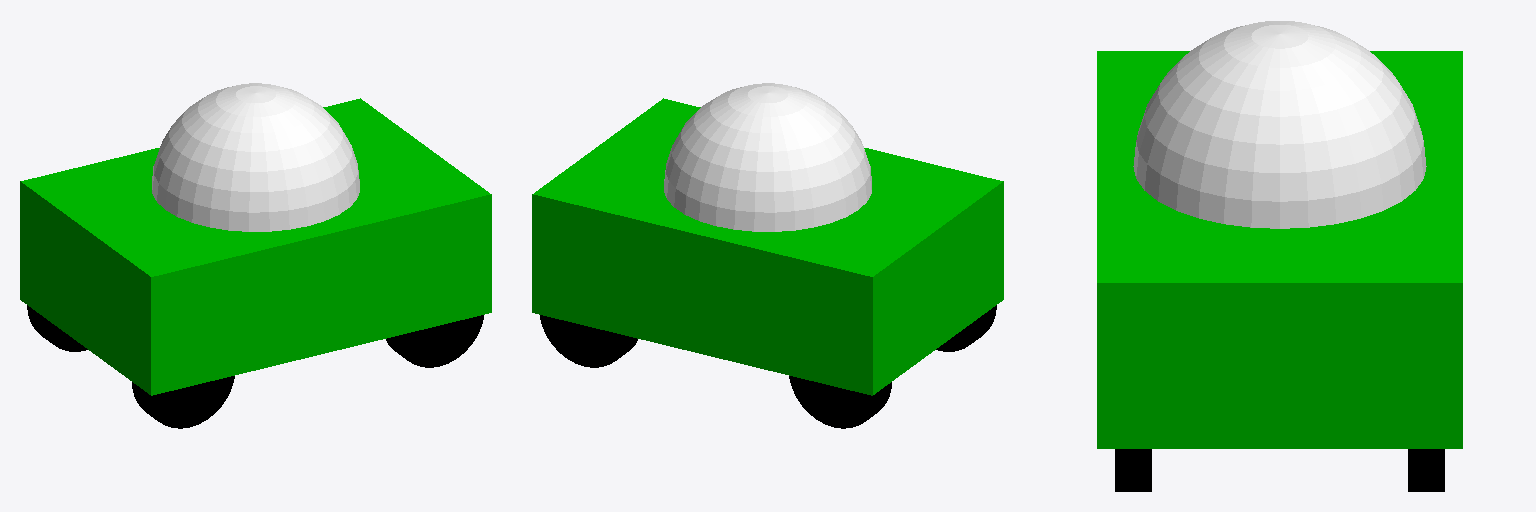
robot.urdf — first_robot:
<?xml version="1.0" encoding="utf-8"?>
<!-- =================================================================================== -->
<!-- |    This document was autogenerated by xacro from xacro/first_robot.xacro        | -->
<!-- |    EDITING THIS FILE BY HAND IS NOT RECOMMENDED                                 | -->
<!-- =================================================================================== -->
<robot name="first_robot">
  <!--A URDF (Unified Robotic Description Format) file must include the first xml version and start with a robot name.
If you are using xacro (xml+micro) to reduce the script length then, it must include the xml name space "xacro"
represented by "xmlns:xacro". http://wiki.ros.org/urdf-->
  <!--Pre-defining material properties-->
  <material name="green">
    <color rgba="0 0.8 0 1"/>
  </material>
  <!--base_link is kind of a psuedo link which not neccessary for the
robot itself but used to avoid an KDL (Kinematic and Dynamics Libraries) error. It can be named anything.-->
  <link name="odom"/>
  <!--Start of the robot description-->
  <link name="base_link">
    <visual>
      <geometry>
        <box size="0.3 0.2 0.1"/>
      </geometry>
      <material name="green"/>
    </visual>
    <!--collision is an important tag and must be included in those links which are in contact 
with the surface. It's a good practice to define collision geometry for every link.-->
    <collision>
      <geometry>
        <box size="0.3 0.2 0.1"/>
        <!--collision geometry can be of any size-->
      </geometry>
    </collision>
    <!--inertial tag is must for simulation env.-->
    <inertial>
      <mass value="3.0"/>
      <inertia ixx="0.01" ixy="0.0" ixz="0.0" iyy="0.0225" iyz="0.0" izz="0.0325"/>
    </inertial>
  </link>
  <!--Always define the body to psuedo link joint as fixed-->
  <joint name="base_to_world" type="fixed">
    <origin rpy="0.0 0.0 0.0" xyz="0.0 0.0 0.0"/>
    <parent link="odom"/>
    <child link="base_link"/>
  </joint>
  <material name="black">
    <color rgba="0 0 0 1"/>
  </material>
  <link name="right_front_wheel">
    <visual>
      <geometry>
        <cylinder length="0.02" radius="0.04"/>
      </geometry>
      <material name="black"/>
      <origin rpy="1.57075 0 0" xyz="0 0 0"/>
    </visual>
    <collision>
      <origin rpy="1.57075 0.0 0.0" xyz="0.0 0.0 0.0"/>
      <geometry>
        <cylinder length="0.02" radius="0.04"/>
      </geometry>
    </collision>
    <inertial>
      <mass value="0.2"/>
      <inertia ixx="0.00016" ixy="0.0" ixz="0.0" iyy="0.000087" iyz="0.0" izz="0.000087"/>
    </inertial>
  </link>
  <joint name="right_front_wheel_joint" type="continuous">
    <axis xyz="0.0 1.0 0.0"/>
    <parent link="base_link"/>
    <child link="right_front_wheel"/>
    <origin rpy="0.0 0.0 0.0" xyz="0.11 -0.08 -0.05"/>
  </joint>
  <!--gazebo tag is defined for gazebo environment. It is not neccessary for rviz. 
gazebo doesn't use the material defined for rviz therefore a different material  is also included.-->
  <gazebo reference="right_front_wheel">
    <mu1 value="200.0"/>
    <mu2 value="100.0"/>
    <kp value="10000000.0"/>
    <kd value="1.0"/>
    <material>Gazebo/Black</material>
  </gazebo>
  <!--The transmission element is an extension to the URDF robot description model 
that is used to describe the relationship between an actuator and a joint. http://wiki.ros.org/urdf/XML/Transmission-->
  <transmission name="right_front_wheel_trans">
    <type>transmission_interface/SimpleTransmission</type>
    <joint name="right_front_wheel_joint">
      <hardwareInterface>hardware_interface/VelocityJointInterface</hardwareInterface>
    </joint>
    <actuator name="right_front_wheel_motor">
      <mechanicalReduction>1.0</mechanicalReduction>
    </actuator>
  </transmission>
  <link name="right_back_wheel">
    <visual>
      <geometry>
        <cylinder length="0.02" radius="0.04"/>
      </geometry>
      <material name="black"/>
      <origin rpy="1.57075 0 0" xyz="0 0 0"/>
    </visual>
    <collision>
      <origin rpy="1.57075 0.0 0.0" xyz="0.0 0.0 0.0"/>
      <geometry>
        <cylinder length="0.02" radius="0.04"/>
      </geometry>
    </collision>
    <inertial>
      <mass value="0.2"/>
      <inertia ixx="0.00016" ixy="0.0" ixz="0.0" iyy="0.000087" iyz="0.0" izz="0.000087"/>
    </inertial>
  </link>
  <joint name="right_back_wheel_joint" type="continuous">
    <axis xyz="0.0 1.0 0.0"/>
    <parent link="base_link"/>
    <child link="right_back_wheel"/>
    <origin rpy="0.0 0.0 0.0" xyz="-0.11 -0.08 -0.05"/>
  </joint>
  <!--gazebo tag is defined for gazebo environment. It is not neccessary for rviz. 
gazebo doesn't use the material defined for rviz therefore a different material  is also included.-->
  <gazebo reference="right_back_wheel">
    <mu1 value="200.0"/>
    <mu2 value="100.0"/>
    <kp value="10000000.0"/>
    <kd value="1.0"/>
    <material>Gazebo/Black</material>
  </gazebo>
  <!--The transmission element is an extension to the URDF robot description model 
that is used to describe the relationship between an actuator and a joint. http://wiki.ros.org/urdf/XML/Transmission-->
  <transmission name="right_back_wheel_trans">
    <type>transmission_interface/SimpleTransmission</type>
    <joint name="right_back_wheel_joint">
      <hardwareInterface>hardware_interface/VelocityJointInterface</hardwareInterface>
    </joint>
    <actuator name="right_back_wheel_motor">
      <mechanicalReduction>1.0</mechanicalReduction>
    </actuator>
  </transmission>
  <link name="left_front_wheel">
    <visual>
      <geometry>
        <cylinder length="0.02" radius="0.04"/>
      </geometry>
      <material name="black"/>
      <origin rpy="1.57075 0 0" xyz="0 0 0"/>
    </visual>
    <collision>
      <origin rpy="1.57075 0.0 0.0" xyz="0.0 0.0 0.0"/>
      <geometry>
        <cylinder length="0.02" radius="0.04"/>
      </geometry>
    </collision>
    <inertial>
      <mass value="0.2"/>
      <inertia ixx="0.00016" ixy="0.0" ixz="0.0" iyy="0.000087" iyz="0.0" izz="0.000087"/>
    </inertial>
  </link>
  <joint name="left_front_wheel_joint" type="continuous">
    <axis xyz="0.0 1.0 0.0"/>
    <parent link="base_link"/>
    <child link="left_front_wheel"/>
    <origin rpy="0.0 0.0 0.0" xyz="0.11 0.08 -0.05"/>
  </joint>
  <!--gazebo tag is defined for gazebo environment. It is not neccessary for rviz. 
gazebo doesn't use the material defined for rviz therefore a different material  is also included.-->
  <gazebo reference="left_front_wheel">
    <mu1 value="200.0"/>
    <mu2 value="100.0"/>
    <kp value="10000000.0"/>
    <kd value="1.0"/>
    <material>Gazebo/Black</material>
  </gazebo>
  <!--The transmission element is an extension to the URDF robot description model 
that is used to describe the relationship between an actuator and a joint. http://wiki.ros.org/urdf/XML/Transmission-->
  <transmission name="left_front_wheel_trans">
    <type>transmission_interface/SimpleTransmission</type>
    <joint name="left_front_wheel_joint">
      <hardwareInterface>hardware_interface/VelocityJointInterface</hardwareInterface>
    </joint>
    <actuator name="left_front_wheel_motor">
      <mechanicalReduction>1.0</mechanicalReduction>
    </actuator>
  </transmission>
  <link name="left_back_wheel">
    <visual>
      <geometry>
        <cylinder length="0.02" radius="0.04"/>
      </geometry>
      <material name="black"/>
      <origin rpy="1.57075 0 0" xyz="0 0 0"/>
    </visual>
    <collision>
      <origin rpy="1.57075 0.0 0.0" xyz="0.0 0.0 0.0"/>
      <geometry>
        <cylinder length="0.02" radius="0.04"/>
      </geometry>
    </collision>
    <inertial>
      <mass value="0.2"/>
      <inertia ixx="0.00016" ixy="0.0" ixz="0.0" iyy="0.000087" iyz="0.0" izz="0.000087"/>
    </inertial>
  </link>
  <joint name="left_back_wheel_joint" type="continuous">
    <axis xyz="0.0 1.0 0.0"/>
    <parent link="base_link"/>
    <child link="left_back_wheel"/>
    <origin rpy="0.0 0.0 0.0" xyz="-0.11 0.08 -0.05"/>
  </joint>
  <!--gazebo tag is defined for gazebo environment. It is not neccessary for rviz. 
gazebo doesn't use the material defined for rviz therefore a different material  is also included.-->
  <gazebo reference="left_back_wheel">
    <mu1 value="200.0"/>
    <mu2 value="100.0"/>
    <kp value="10000000.0"/>
    <kd value="1.0"/>
    <material>Gazebo/Black</material>
  </gazebo>
  <!--The transmission element is an extension to the URDF robot description model 
that is used to describe the relationship between an actuator and a joint. http://wiki.ros.org/urdf/XML/Transmission-->
  <transmission name="left_back_wheel_trans">
    <type>transmission_interface/SimpleTransmission</type>
    <joint name="left_back_wheel_joint">
      <hardwareInterface>hardware_interface/VelocityJointInterface</hardwareInterface>
    </joint>
    <actuator name="left_back_wheel_motor">
      <mechanicalReduction>1.0</mechanicalReduction>
    </actuator>
  </transmission>
  <material name="white">
    <color rgba="1 1 1 1"/>
  </material>
  <link name="head">
    <visual>
      <geometry>
        <sphere radius="0.08"/>
      </geometry>
      <material name="white"/>
    </visual>
    <collision>
      <geometry>
        <sphere radius="0.08"/>
      </geometry>
    </collision>
    <inertial>
      <mass value="1.0"/>
      <inertia ixx="0.001" ixy="0.0" ixz="0.0" iyy="0.001" iyz="0.0" izz="0.001"/>
    </inertial>
  </link>
  <joint name="head_to_base_joint" type="continuous">
    <origin rpy="0.0 0.0 0.0" xyz="0.0 0.0 0.05"/>
    <parent link="base_link"/>
    <child link="head"/>
    <axis xyz="0.0 0.0 1.0"/>
  </joint>
  <transmission name="head_trans">
    <type>transmission_interface/SimpleTransmission</type>
    <joint name="head_to_base_joint">
      <hardwareInterface>hardware_interface/PositionJointInterface</hardwareInterface>
    </joint>
    <actuator name="head_motor">
      <mechanicalReduction>1.0</mechanicalReduction>
    </actuator>
  </transmission>
  <gazebo reference="base_link">
    <material>Gazebo/Green</material>
  </gazebo>
  <gazebo reference="head">
    <material>Gazebo/White</material>
  </gazebo>
  <gazebo>
    <plugin filename="libgazebo_ros_control.so" name="gazebo_ros_control">
      <robotNamespace>/first_robot</robotNamespace>
    </plugin>
  </gazebo>
</robot>

--- Render facts (derived) ---
3 views of the same robot in one strip: view 1: azimuth 30°, elevation 25°; view 2: azimuth 150°, elevation 25°; view 3: azimuth 270°, elevation 25° (orthographic).
Robot: first_robot — 7 links, 6 joints (5 continuous, 1 fixed); root link odom; default pose: all joints at 0.
Links seen in each view (by area): view 1: base_link, head, right_back_wheel, right_front_wheel, left_back_wheel; view 2: base_link, head, left_back_wheel, left_front_wheel, right_back_wheel; view 3: base_link, head, right_front_wheel, left_front_wheel.
Boxes of the visible links, x1=… form: base_link: x1=20, y1=98, x2=491, y2=395; head: x1=152, y1=83, x2=359, y2=231; right_back_wheel: x1=132, y1=376, x2=234, y2=428; right_front_wheel: x1=386, y1=315, x2=483, y2=367; left_back_wheel: x1=27, y1=305, x2=87, y2=351; base_link: x1=532, y1=98, x2=1003, y2=395; head: x1=664, y1=83, x2=871, y2=231; left_back_wheel: x1=789, y1=376, x2=891, y2=428; left_front_wheel: x1=540, y1=315, x2=637, y2=367; right_back_wheel: x1=936, y1=305, x2=996, y2=351; base_link: x1=1097, y1=51, x2=1462, y2=448; head: x1=1133, y1=21, x2=1426, y2=228; right_front_wheel: x1=1115, y1=449, x2=1151, y2=491; left_front_wheel: x1=1408, y1=449, x2=1444, y2=491.
Size in the robot's own frame: 0.3 by 0.2 by 0.22 metres.
Geometry: primitives only (box / cylinder / sphere), no mesh files.